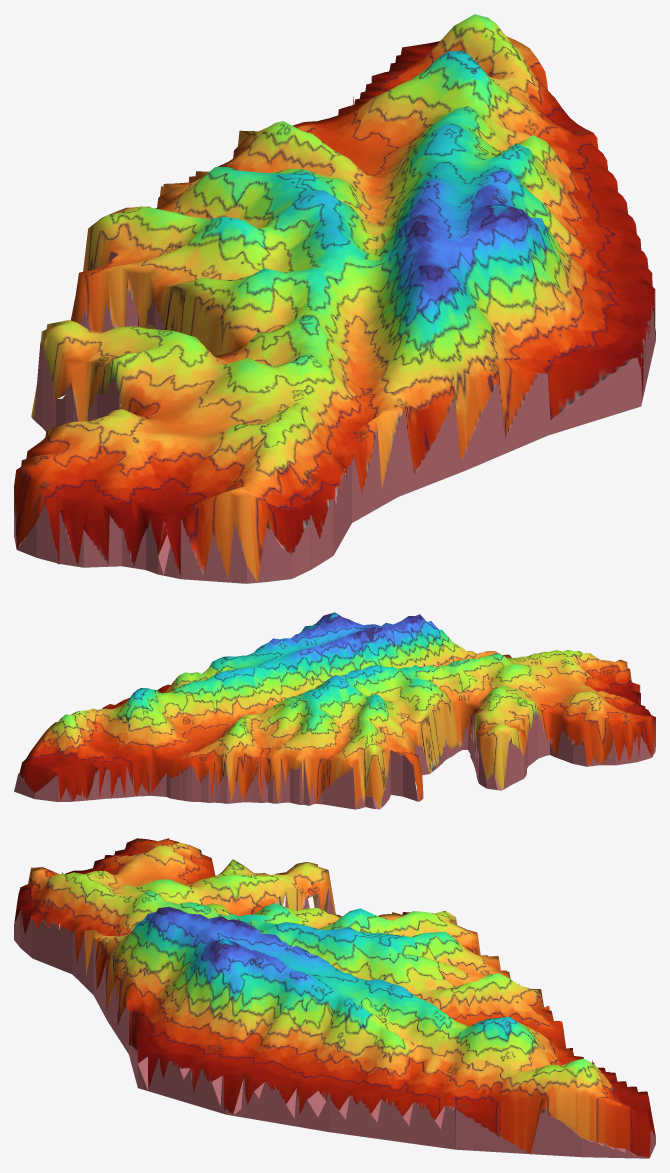
File: 3dContour.glb
3 views of the same model, one above another, from view 1: azimuth 30°, elevation 25°; view 2: azimuth 150°, elevation 25°; view 3: azimuth 270°, elevation 25° (orthographic). The views are drawn at different scales.
Visible parts, largest first — view 1: DEM 1, side; view 2: DEM 1, side; view 3: DEM 1, side, bottom.
Boxes of the visible parts, x1,y1,x2,y2 form: DEM 1: [14, 14, 655, 582]; side: [14, 251, 655, 583]; DEM 1: [19, 612, 655, 809]; side: [14, 701, 655, 809]; DEM 1: [14, 838, 655, 1158]; side: [14, 889, 655, 1158]; bottom: [97, 988, 649, 1158].
Size of the model in its own units: 11727 by 2396 by 11429.
Materials: 4 (1 with a texture image).
